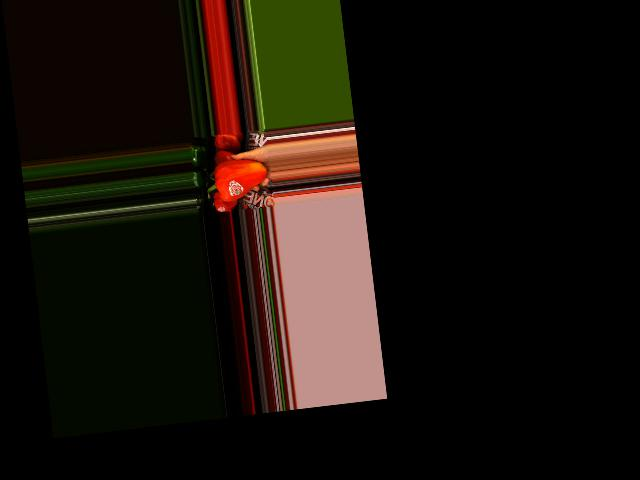bell_pepper: (202, 152, 269, 205)
